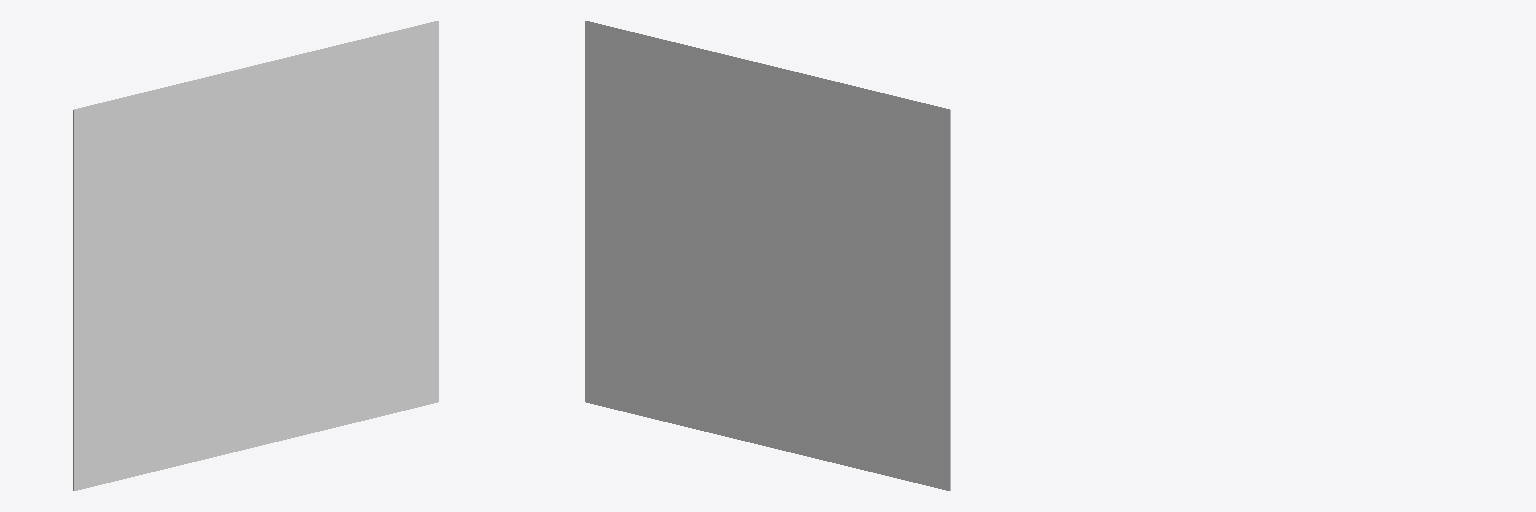
The robot description file, URDF, robot "plane":
<?xml version="0.0" ?>
<robot name="plane">
  <link name="planeLink">
  <contact>
      <lateral_friction value="0.8"/>
  </contact>
    <inertial>
      <origin rpy="0 0 0" xyz="0 0 0"/>
       <mass value=".0"/>
       <inertia ixx="0" ixy="0" ixz="0" iyy="0" iyz="0" izz="0"/>
    </inertial>
    <visual>
      <origin rpy="0 0 0" xyz="0 0 0"/>
      <geometry>
				<mesh filename="plane.obj" scale="1 1 1"/>
      </geometry>
       <material name="white">
        <color rgba="1 1 1 1"/>
      </material>
    </visual>
    <collision>
      <origin rpy="0 0 0" xyz="0 0 -5"/>
      <geometry>
	 	<box size="200 200 10"/>
      </geometry>
    </collision>
  </link>
</robot>

--- Facts derived from the render (not from the file) ---
Views: 3 orthographic renders of the robot side by side, from view 1: azimuth 30°, elevation 25°; view 2: azimuth 150°, elevation 25°; view 3: azimuth 270°, elevation 25°.
Model plane with 1 links and 0 joints (none), rooted at planeLink, posed all joints at 0.
Links seen in each view (by area): view 1: planeLink; view 2: planeLink; view 3: none.
Boxes of the visible links, bbox=[...] form: planeLink: bbox=[73, 21, 438, 490]; planeLink: bbox=[585, 21, 950, 490].
Bounding box of the posed robot: 20000 × 5 × 20000 m (x, y, z).
1 mesh visuals loaded from 1 distinct referenced files (1 OBJ).